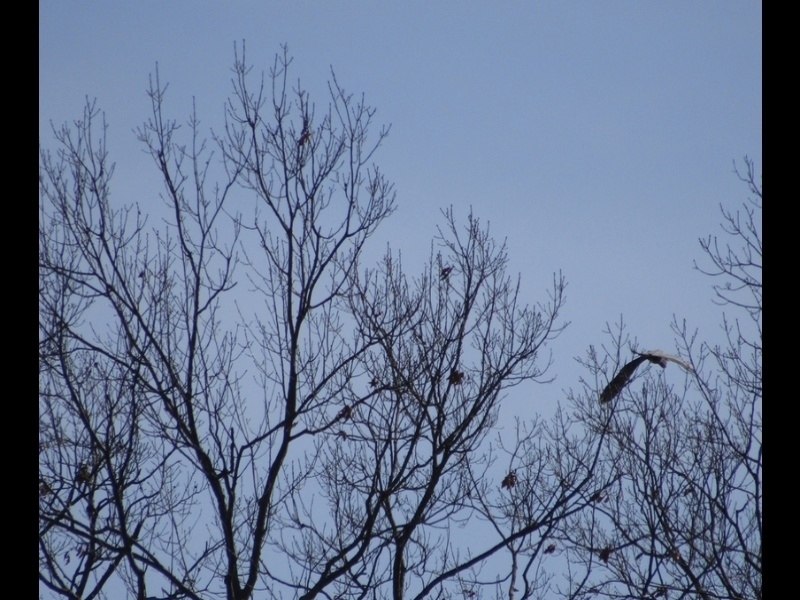heron: (597, 342, 695, 413)
